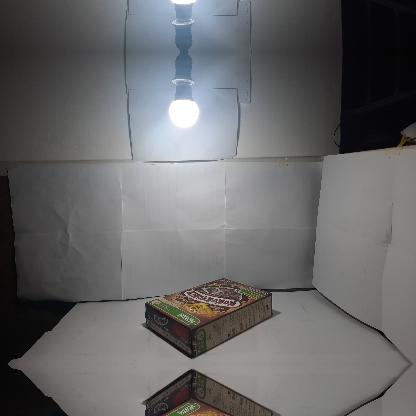Koko-Krunch: (145, 278, 273, 356), (145, 371, 274, 415)
